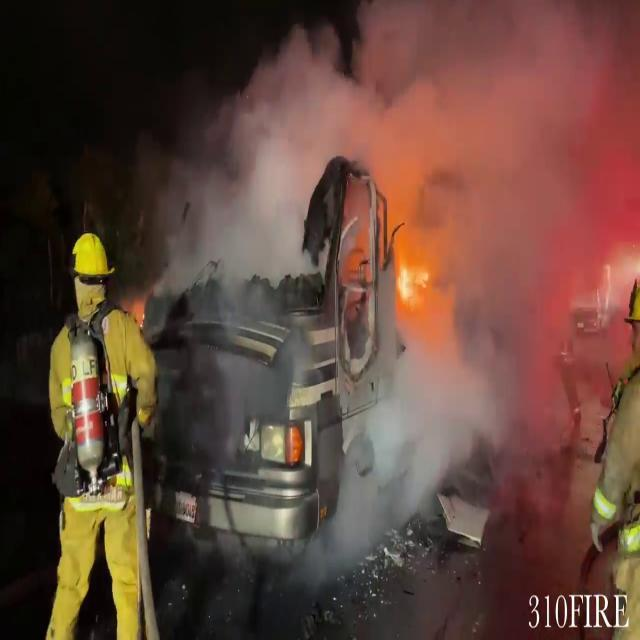Smoke: (146, 2, 638, 522)
